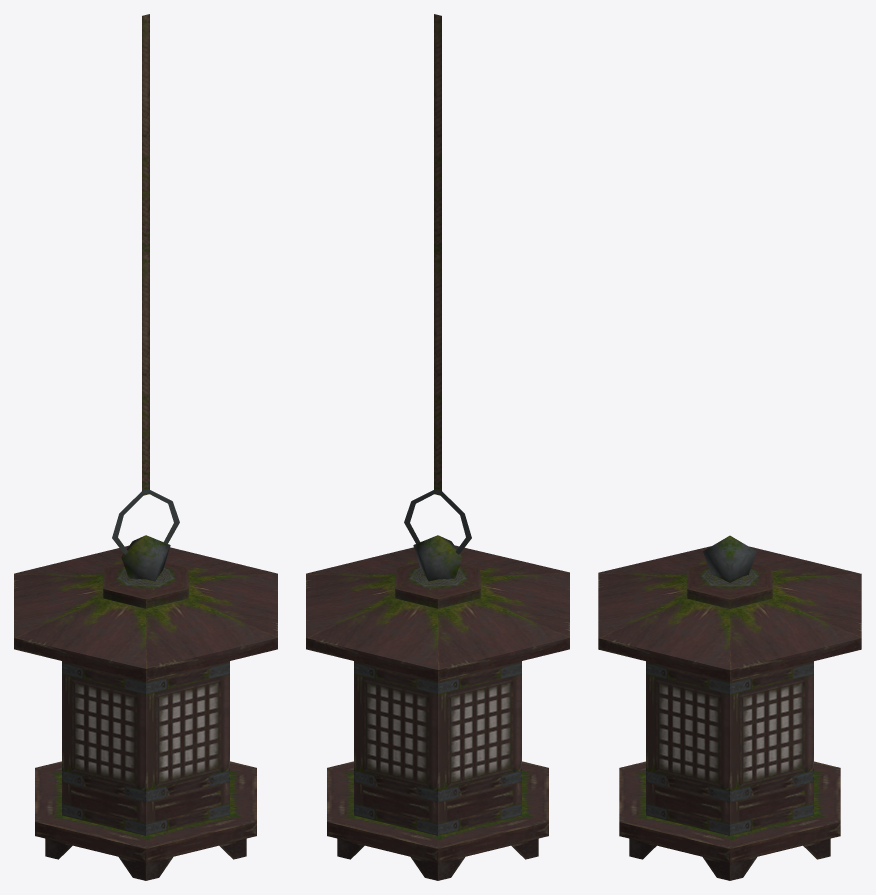
The model's file is i_zx_xiaodiaodeng01_lod2.FBX.
3 views of the same model, side by side, from view 1: azimuth 30°, elevation 25°; view 2: azimuth 150°, elevation 25°; view 3: azimuth 270°, elevation 25° (orthographic).
Visible parts, largest first — view 1: i_zx_xiaodiaodeng01_lod2; view 2: i_zx_xiaodiaodeng01_lod2; view 3: i_zx_xiaodiaodeng01_lod2.
Part boxes in pixels (x1,y1,x2,y2): i_zx_xiaodiaodeng01_lod2: [14, 14, 277, 880]; i_zx_xiaodiaodeng01_lod2: [306, 14, 569, 880]; i_zx_xiaodiaodeng01_lod2: [598, 535, 861, 880].
Size of the model in its own units: 0.6766 by 0.5859 by 2.
